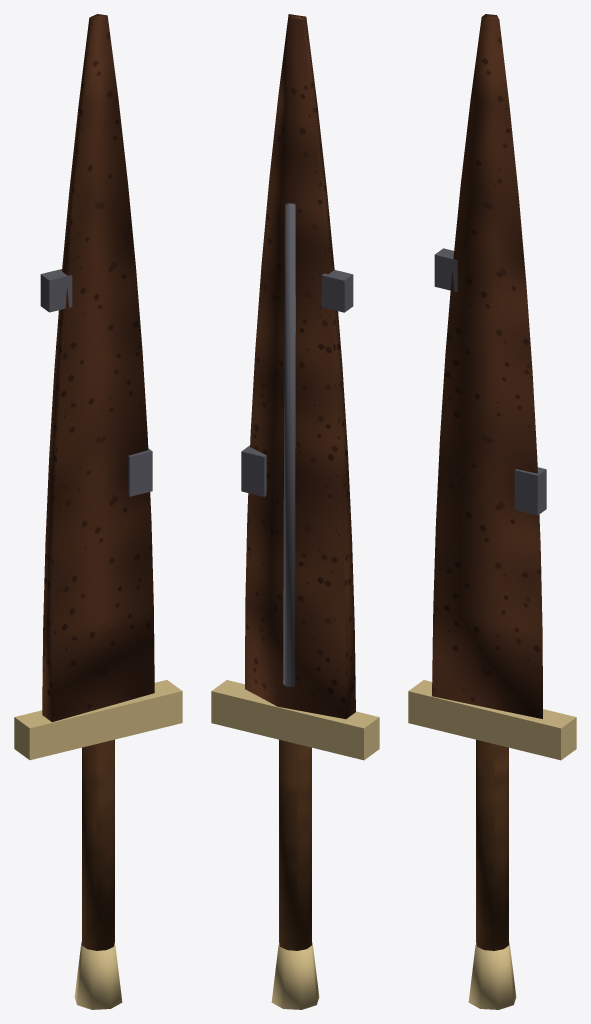
The model's file is w_rust_sword.glb.
3 renders of one model, left to right at view 1: azimuth 30°, elevation 25°; view 2: azimuth 150°, elevation 25°; view 3: azimuth 330°, elevation 25°, orthographic.
Visible parts, largest first — view 1: w_rust_sword; view 2: w_rust_sword; view 3: w_rust_sword.
Part boxes in pixels (x1,y1,x2,y2): w_rust_sword: [14, 14, 182, 1009]; w_rust_sword: [211, 14, 379, 1009]; w_rust_sword: [408, 14, 576, 1009].
Size of the model in its own units: 0.2 by 1.23 by 0.056.
Materials: 4 (2 with a texture image).
